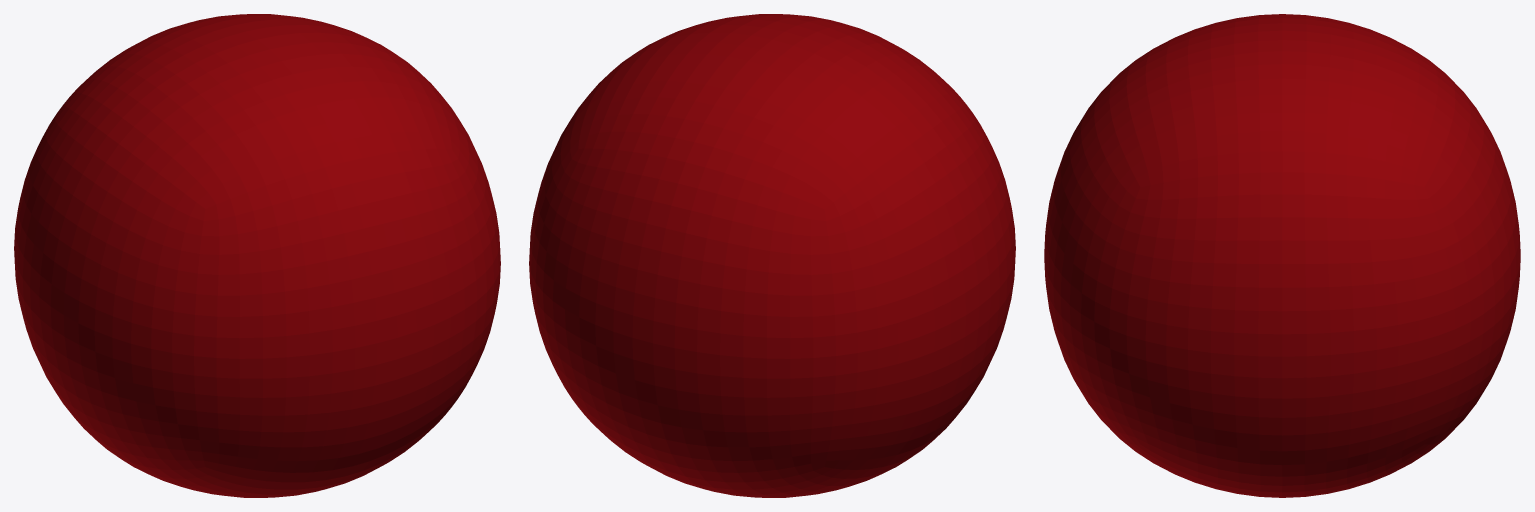
The model's file is Ball.glb.
The picture shows the model from 3 angles, left to right: view 1: azimuth 30°, elevation 25°; view 2: azimuth 150°, elevation 25°; view 3: azimuth 270°, elevation 25°; orthographic projection.
Visible parts, largest first — view 1: Cube; view 2: Cube; view 3: Cube.
Part boxes in pixels (box(x1,y1,x2,y2)): Cube: box(14, 14, 500, 497); Cube: box(529, 14, 1015, 497); Cube: box(1044, 14, 1520, 497).
Size of the model in its own units: 1.68 by 1.68 by 1.68.
